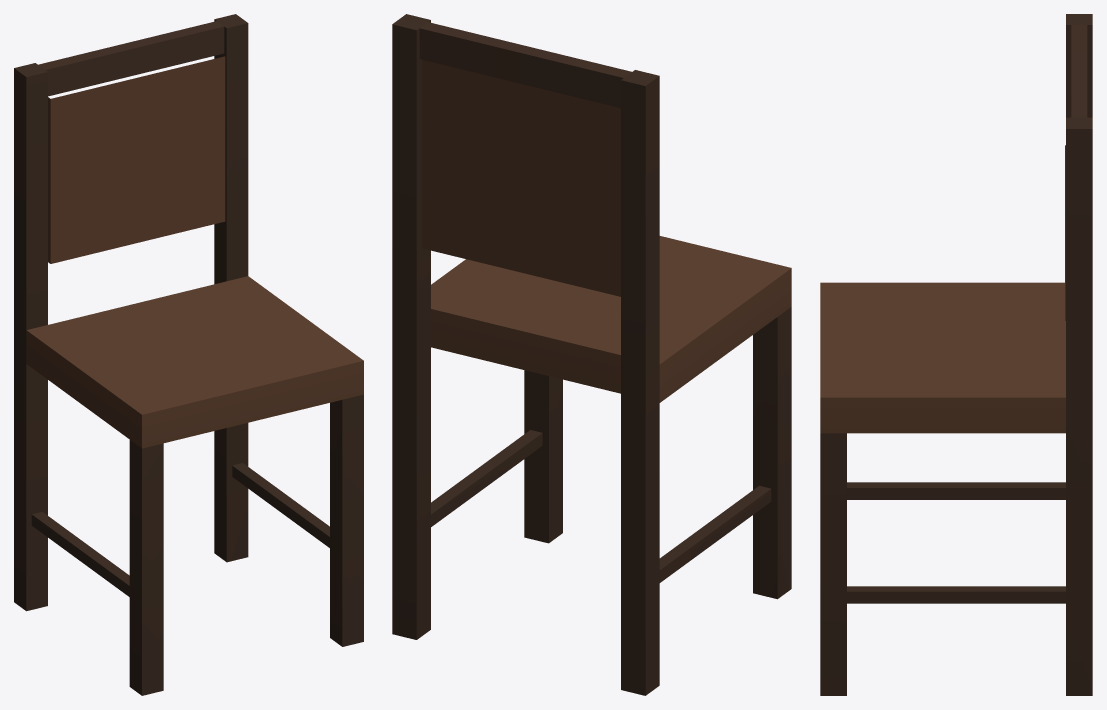
File: seat.chair_cushion.leather.glb
The picture shows the model from 3 angles, left to right: view 1: azimuth 30°, elevation 25°; view 2: azimuth 150°, elevation 25°; view 3: azimuth 270°, elevation 25°; orthographic projection. The views are drawn at different scales.
Visible parts, largest first — view 1: seat_chair_cushion_leather; view 2: seat_chair_cushion_leather; view 3: seat_chair_cushion_leather.
Part boxes in pixels (<box>): seat_chair_cushion_leather: <box>14,14,363,695</box>; seat_chair_cushion_leather: <box>392,14,791,695</box>; seat_chair_cushion_leather: <box>820,14,1092,695</box>.
Size of what is drawn, in the model's own units: 0.413 by 0.95 by 0.413.
